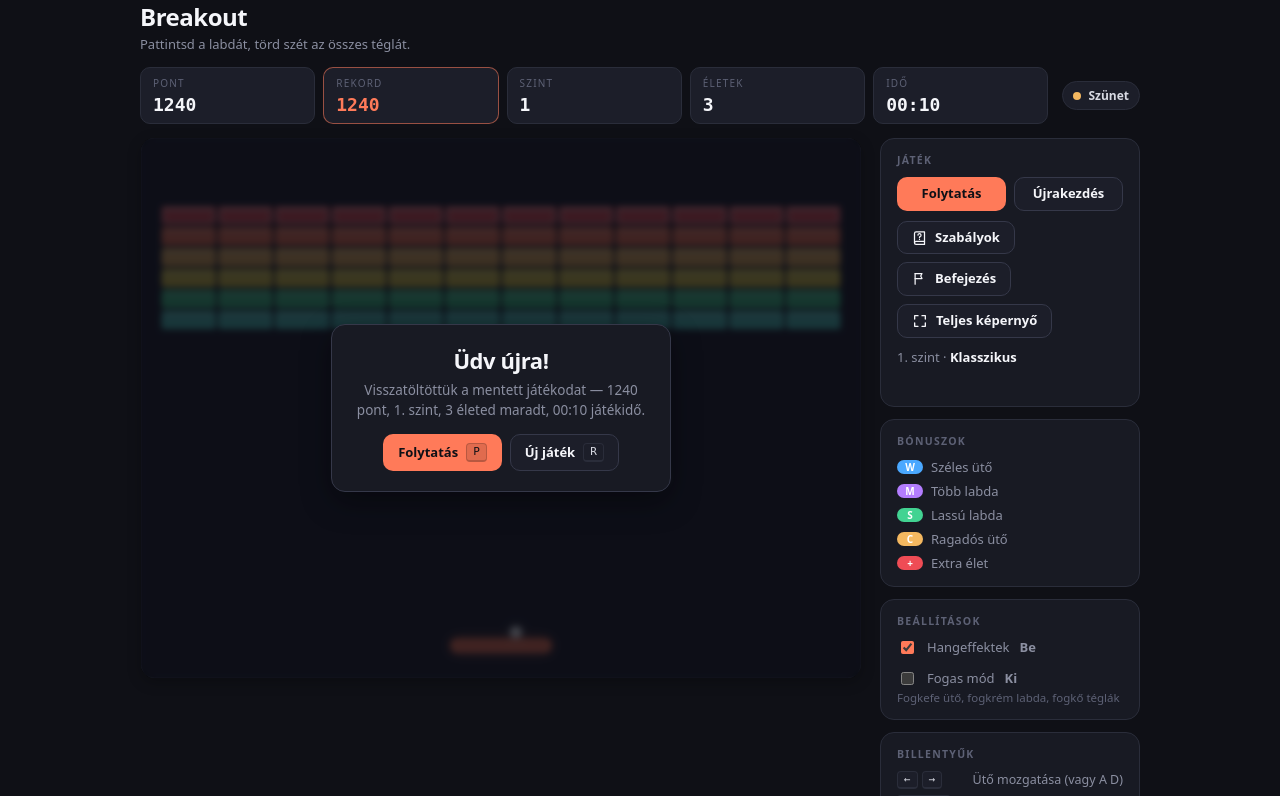
Test: Breakout finish early › confirms with the Score value, ranks it once and shows the finished card
What coordinates should you click on to do the following:
click the button "Befejezés"
I would click on:
 (954, 279)
Its box is [897,262,1011,296].
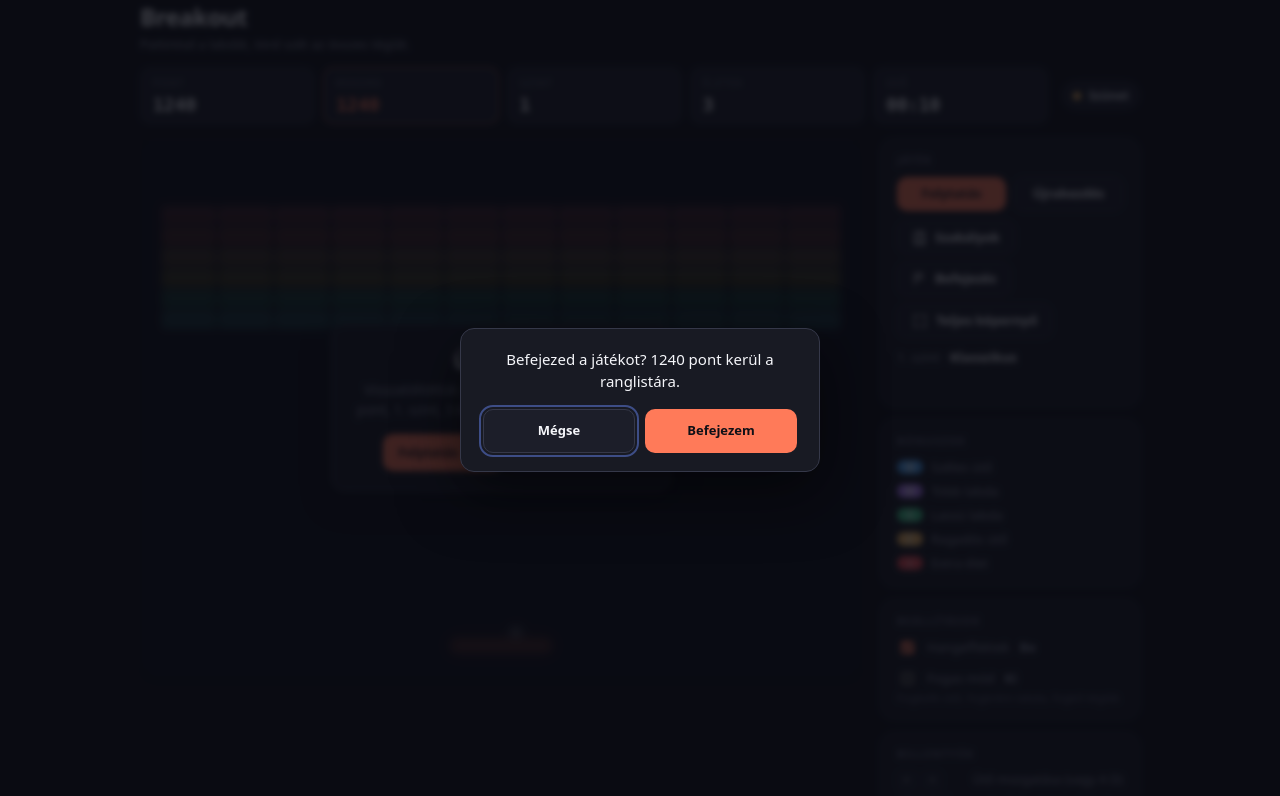
What coordinates should you click on to do the following:
click the button "Befejezem"
I would click on:
 (721, 431)
Its box is [645,409,797,453].
Wait 2000 ms
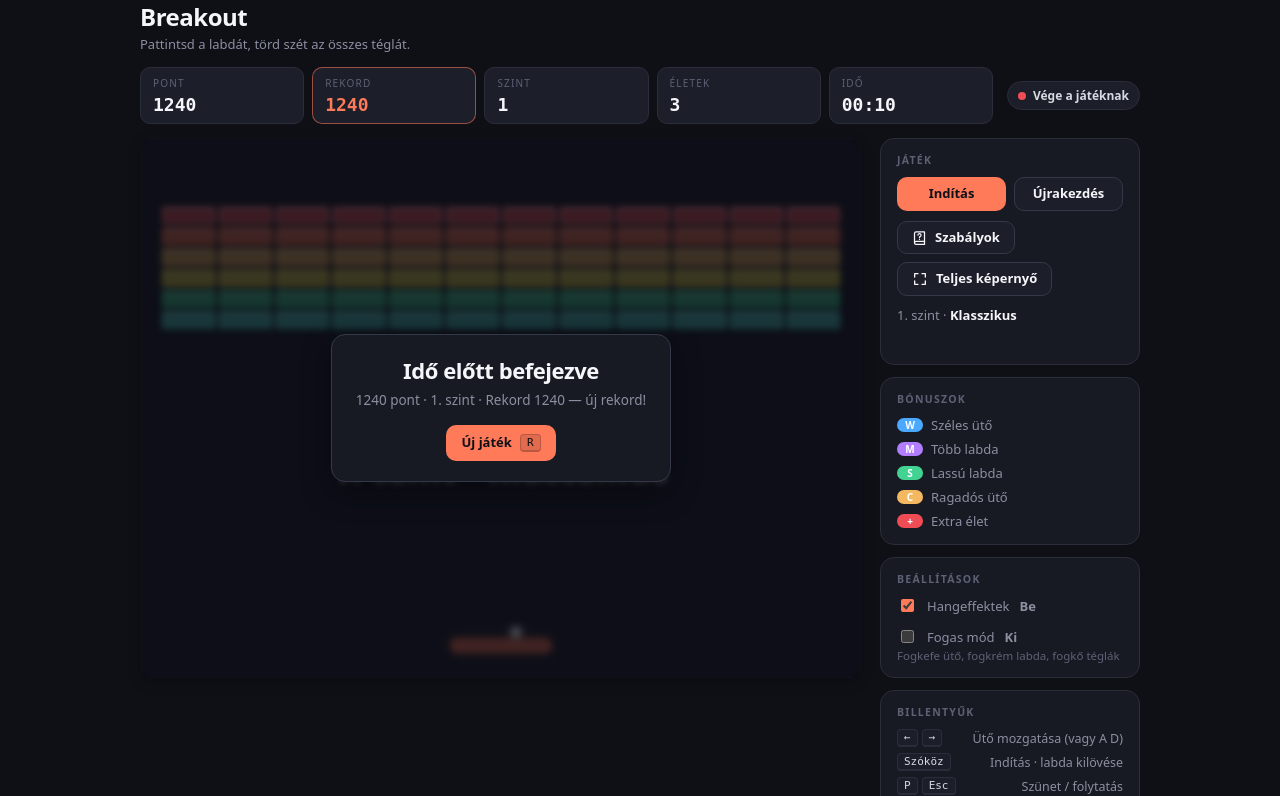
Expected: the dialog "Idő előtt befejezve" is shown, [141,138,861,678]
